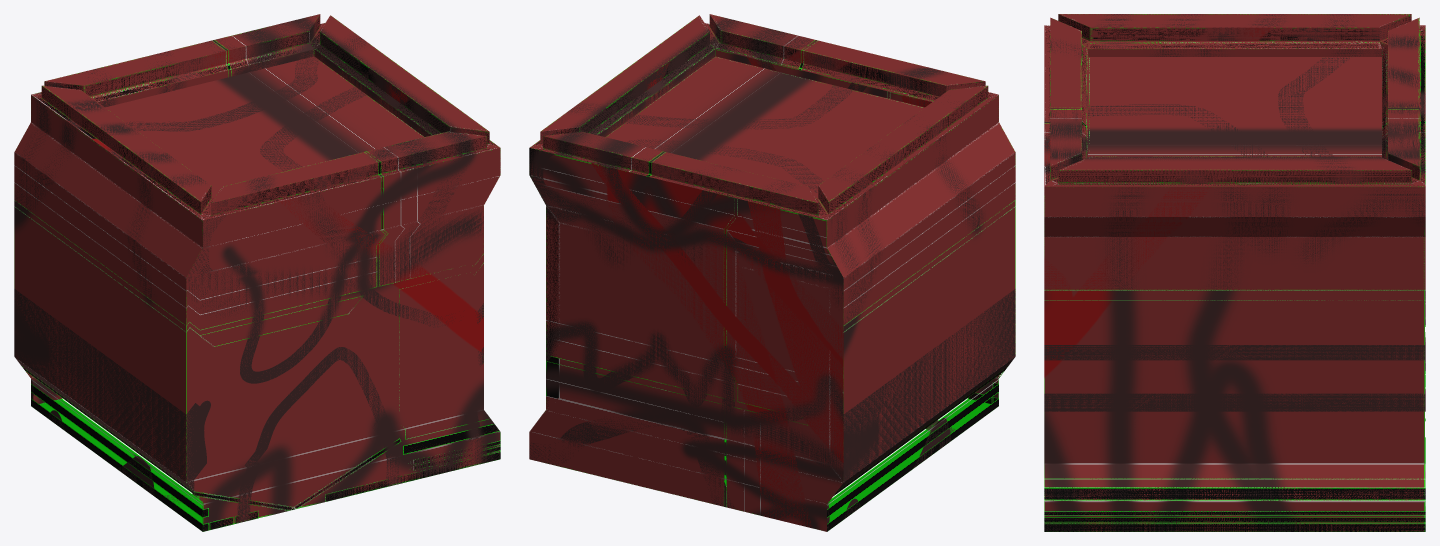
The model's file is MyFirstCrate.FBX.
3 views of the same model, side by side, from view 1: azimuth 30°, elevation 25°; view 2: azimuth 150°, elevation 25°; view 3: azimuth 270°, elevation 25° (orthographic). The views are drawn at different scales.
Parts seen in each view (by area): view 1: Box001; view 2: Box001; view 3: Box001.
Part boxes in pixels (x1,y1,x2,y2): Box001: [14, 14, 500, 531]; Box001: [529, 14, 1015, 531]; Box001: [1044, 14, 1425, 531].
Size of the model in its own units: 52.77 by 52.02 by 50.
Materials: 1 (1 with a texture image).
